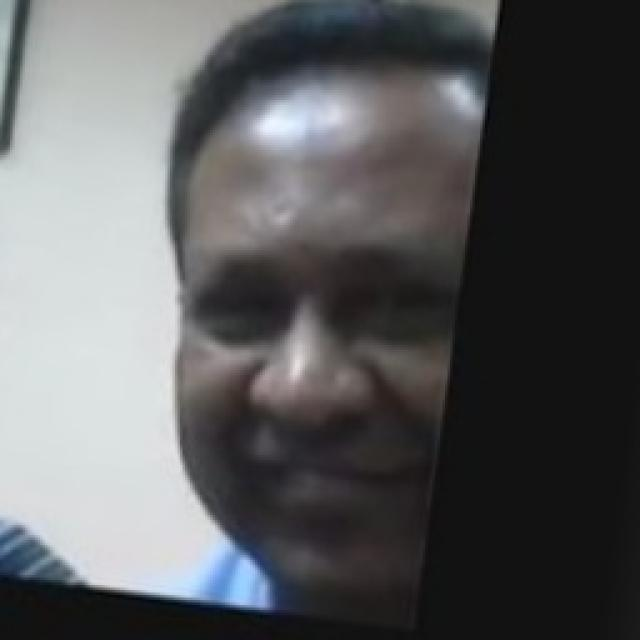no-glasses: (167, 255, 456, 352)
